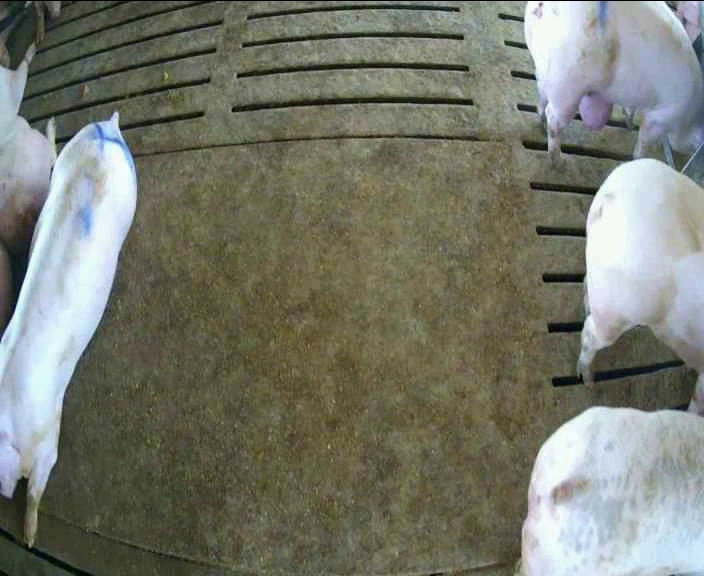pig: (0, 113, 135, 545), (578, 159, 703, 414), (522, 407, 703, 574), (525, 3, 703, 159)
